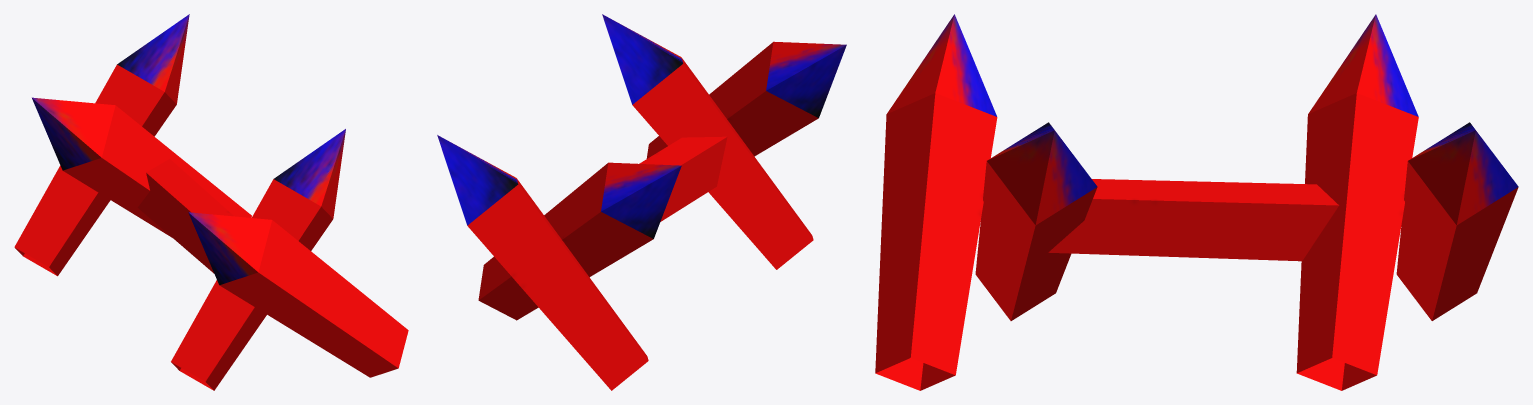
File: wood04.FBX
3 renders of one model, left to right at view 1: azimuth 30°, elevation 25°; view 2: azimuth 150°, elevation 25°; view 3: azimuth 270°, elevation 25°, orthographic. The views are drawn at different scales.
Parts seen in each view (by area): view 1: Object003; view 2: Object003; view 3: Object003.
Boxes of the visible parts, <box> form: Object003: <box>14,14,408,390</box>; Object003: <box>437,14,846,390</box>; Object003: <box>875,14,1518,390</box>.
Size of the model in its own units: 116 by 116 by 235.
